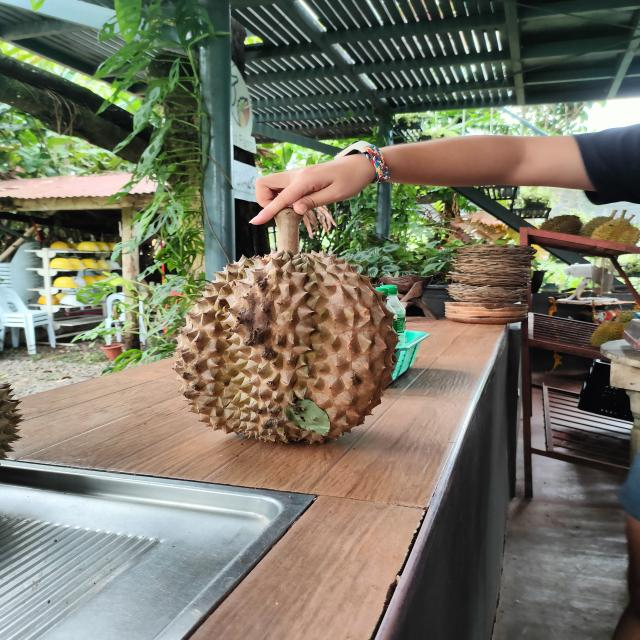mature: (175, 251, 398, 442)
